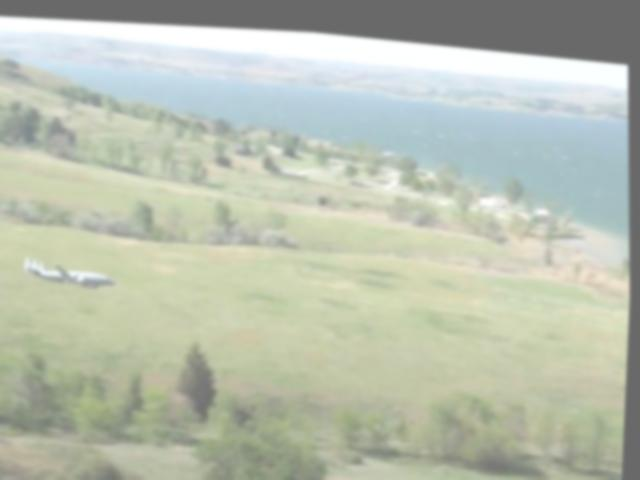iha: (21, 249, 121, 297)
